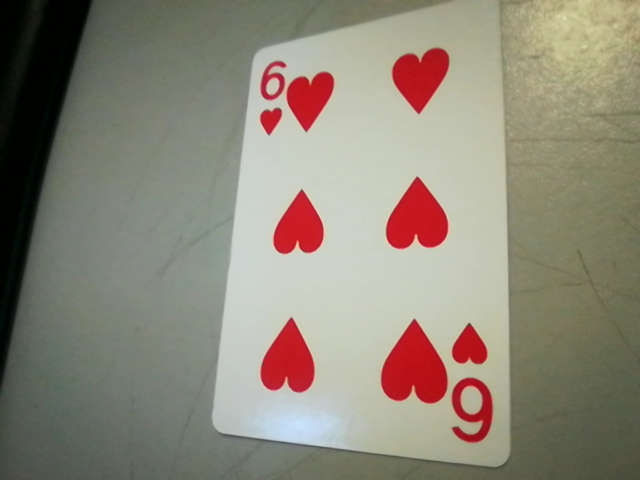hx 6: (444, 318, 505, 453)
